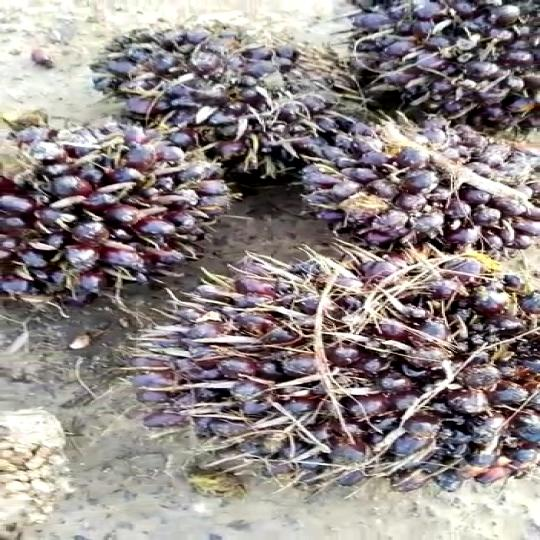mentah: (123, 231, 540, 498), (1, 103, 230, 308), (90, 19, 363, 184), (307, 114, 535, 261), (314, 1, 540, 120)
